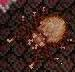spider: (1, 1, 75, 72)
